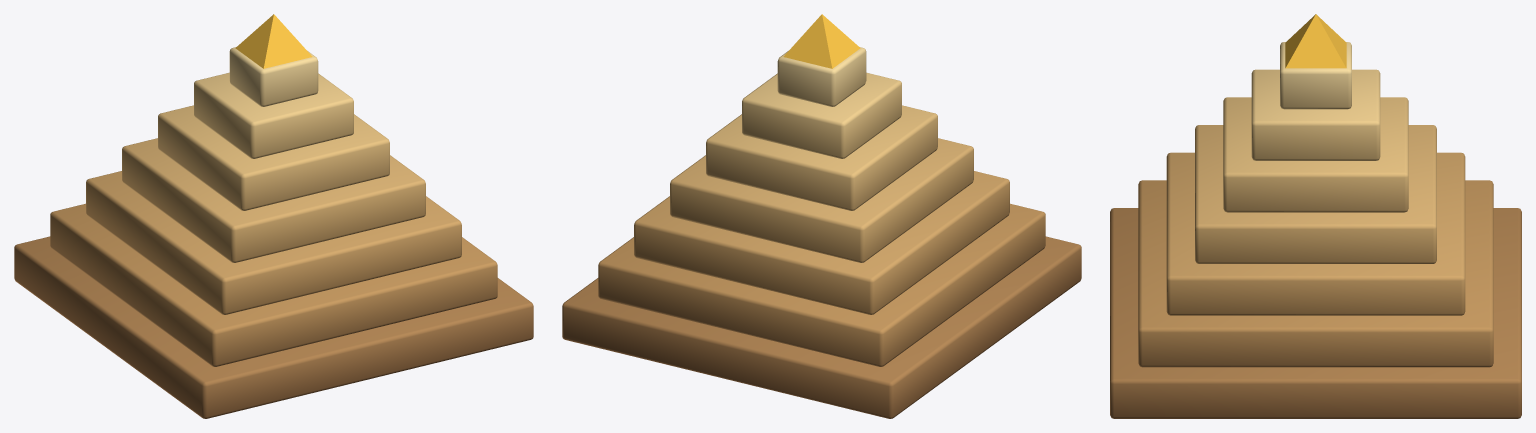
3 renders of one model, left to right at view 1: azimuth 30°, elevation 25°; view 2: azimuth 150°, elevation 25°; view 3: azimuth 270°, elevation 25°, orthographic. The views are drawn at different scales.
Parts seen in each view (by area): view 1: Pyramid; view 2: Pyramid; view 3: Pyramid.
Part boxes in pixels (x1=…): Pyramid: x1=14, y1=14, x2=533, y2=418; Pyramid: x1=562, y1=14, x2=1081, y2=418; Pyramid: x1=1110, y1=14, x2=1521, y2=418.
Size of the model in its own units: 8 by 6.85 by 8.
Materials: 1 (1 with a texture image).
